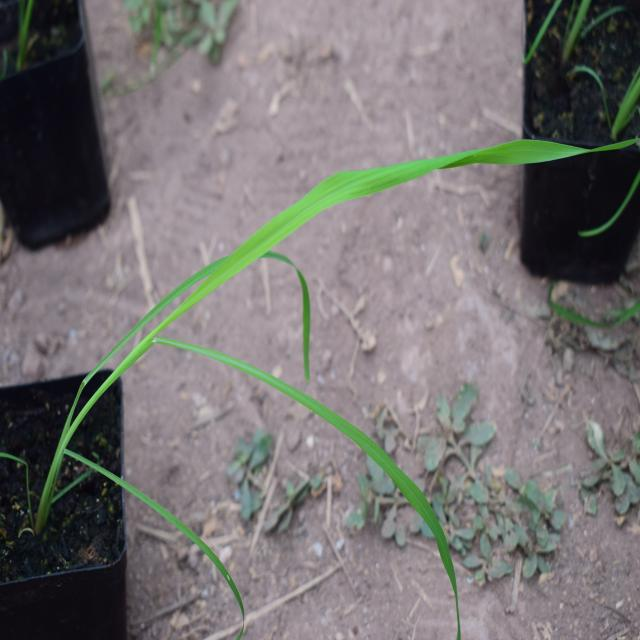barnyard_grass: (69, 104, 601, 503)
